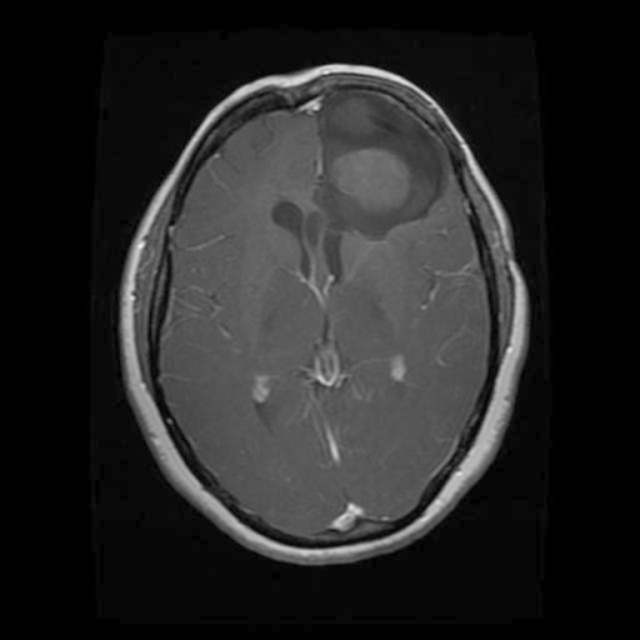pituitary tumor: (325, 91, 439, 228)
